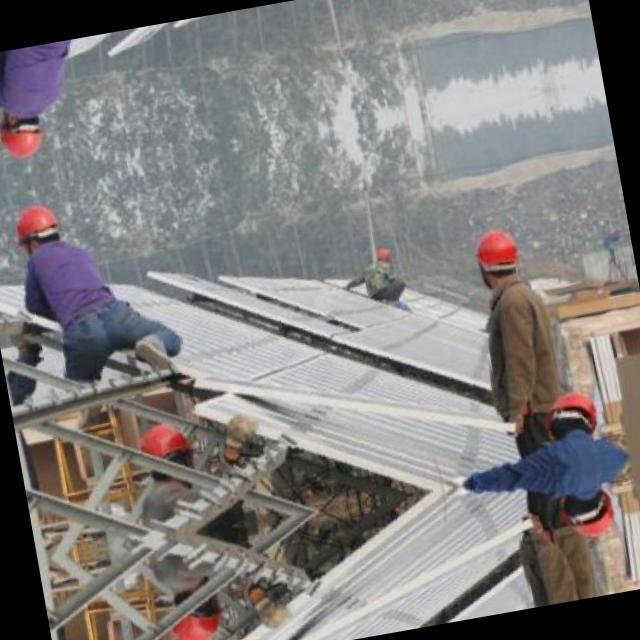helmet: (466, 218, 527, 296), (558, 478, 621, 541), (542, 385, 604, 448), (5, 196, 64, 256), (0, 105, 48, 166), (140, 420, 192, 468), (172, 599, 224, 640), (372, 244, 389, 265)
